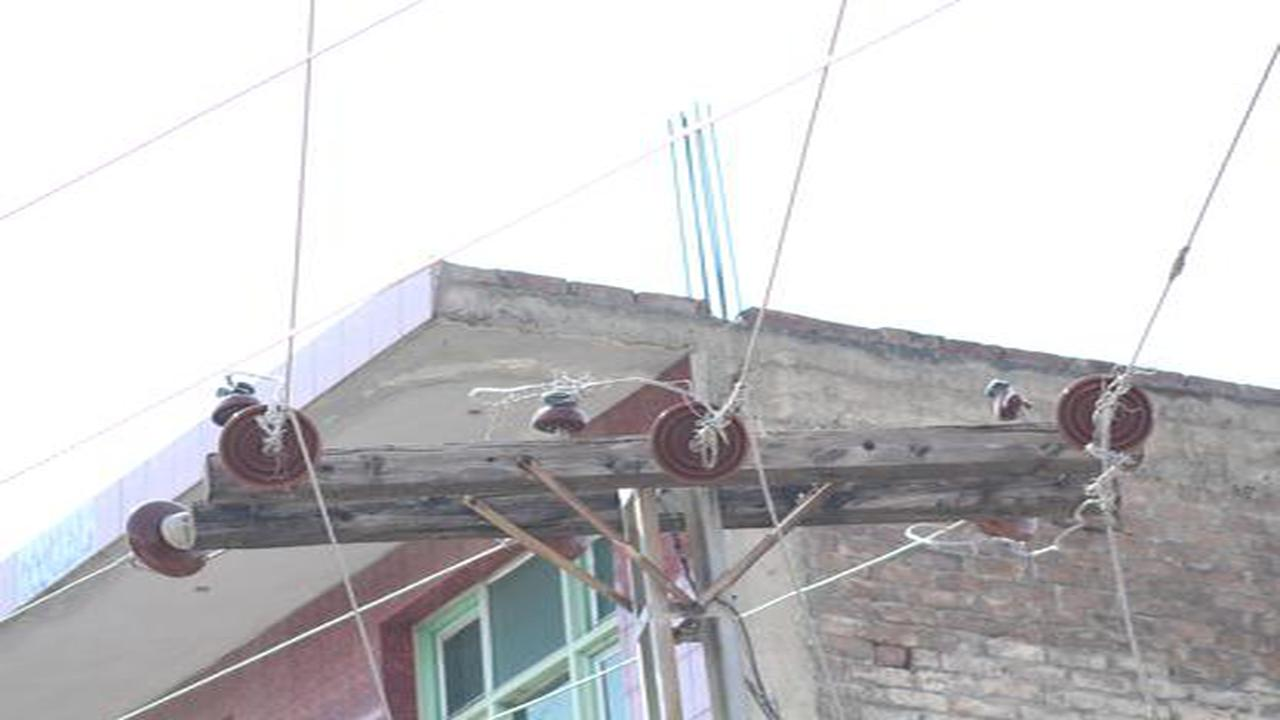defect_pin: (982, 371, 1033, 423)
insulator_disc: (646, 391, 757, 492), (213, 408, 330, 494), (1056, 367, 1161, 460), (117, 497, 224, 584)
insulator_pin: (528, 386, 592, 445), (211, 380, 262, 418)
